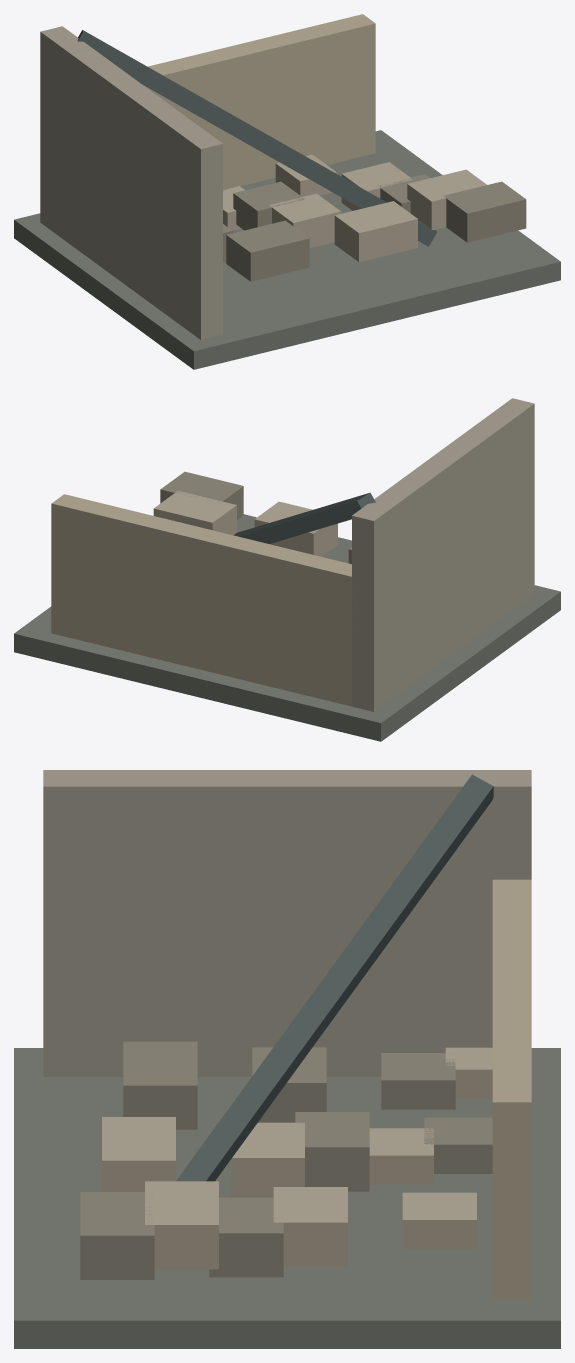
The model's file is ruins.glb.
The picture shows the model from 3 angles, top to bottom: view 1: azimuth 30°, elevation 25°; view 2: azimuth 150°, elevation 25°; view 3: azimuth 270°, elevation 25°; orthographic projection. The views are drawn at different scales.
Visible parts, largest first — view 1: ruins; view 2: ruins; view 3: ruins.
Boxes of the visible parts, box(x1,y1,x2,y2) form: ruins: box(14, 14, 560, 369); ruins: box(14, 398, 560, 741); ruins: box(14, 770, 560, 1348).
Size of the model in its own units: 3.3 by 1.87 by 2.8.
